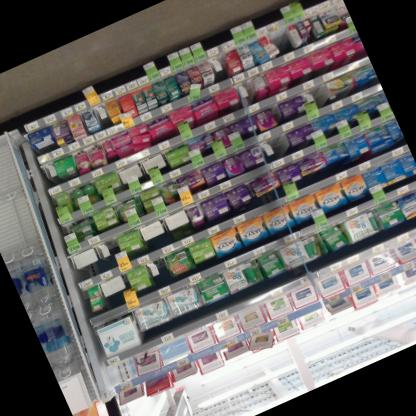empty_space: (99, 272, 135, 308), (72, 246, 105, 280), (145, 256, 174, 290), (260, 133, 292, 163), (140, 218, 170, 250), (99, 238, 126, 267), (271, 26, 295, 56), (206, 54, 230, 82), (92, 100, 114, 128), (237, 79, 258, 104)
